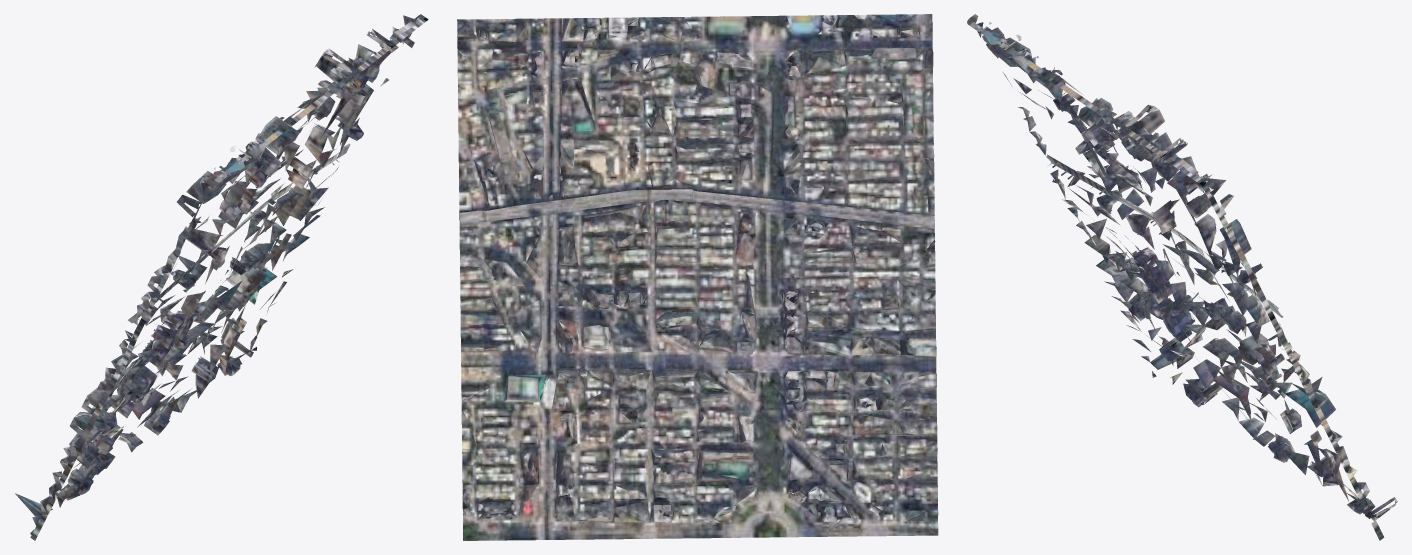
The picture shows the model from 3 angles, left to right: view 1: azimuth 30°, elevation 25°; view 2: azimuth 150°, elevation 25°; view 3: azimuth 270°, elevation 25°; orthographic projection. The views are drawn at different scales.
Bounding box in the file's own units: 1229 × 1145 × 1070.
Materials: 1 (1 with a texture image).
